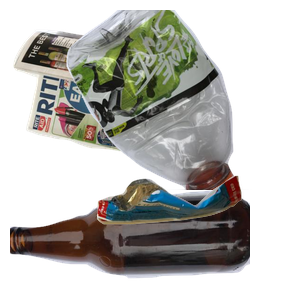glass: (10, 188, 250, 300)
paper: (11, 27, 213, 185)
plastic: (64, 10, 300, 190)
trash: (94, 173, 300, 300)
